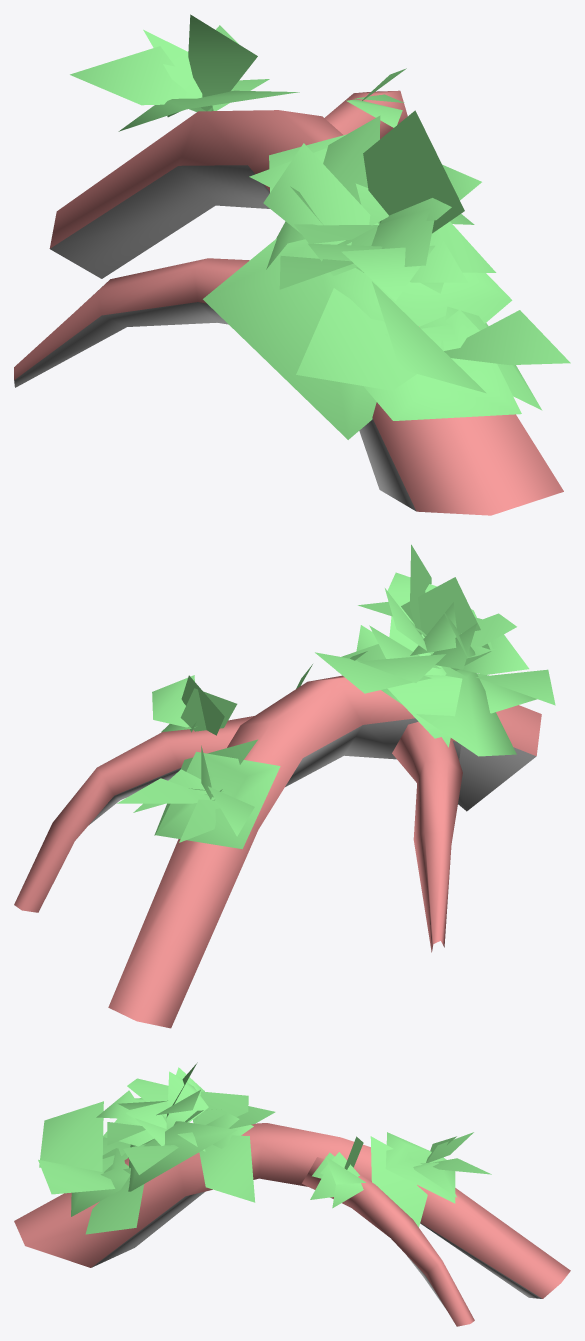
The model's file is Primitive_INtree002.gltf.
3 views of the same model, one above another, from view 1: azimuth 30°, elevation 25°; view 2: azimuth 150°, elevation 25°; view 3: azimuth 270°, elevation 25° (orthographic). The views are drawn at different scales.
Parts seen in each view (by area): view 1: Primitive_INtree002; view 2: Primitive_INtree002; view 3: Primitive_INtree002.
Boxes of the visible parts, x1,y1,x2,y2 form: Primitive_INtree002: (14, 14, 570, 515); Primitive_INtree002: (14, 544, 555, 1028); Primitive_INtree002: (14, 1062, 570, 1326).
Bounding box in the file's own units: 5.02 × 4.13 × 8.88.
